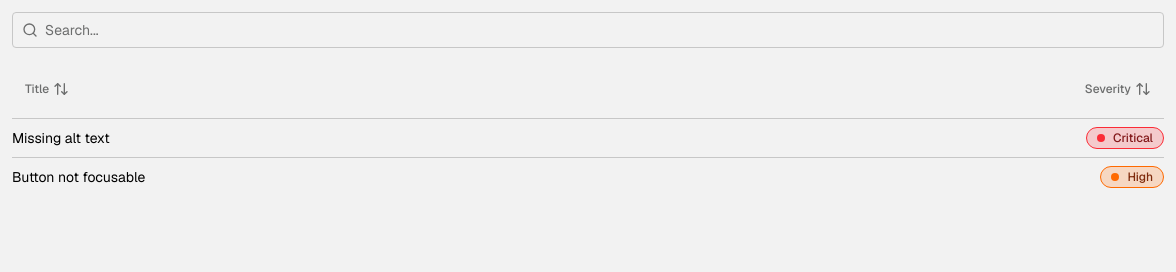
Test: ReportIssuesPanel › opens detail view when row clicked
Step 1. Click the text "Button not focusable" → click(79, 177), box [12,158,717,196]
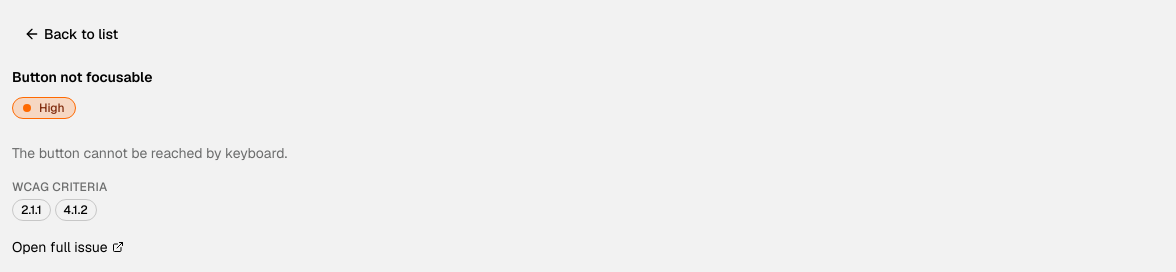
Expected: the text "The button cannot be reached by keyboard." is shown, [12,144,287,162]
Expected: the button "Back to list" is shown, [12,12,130,56]
